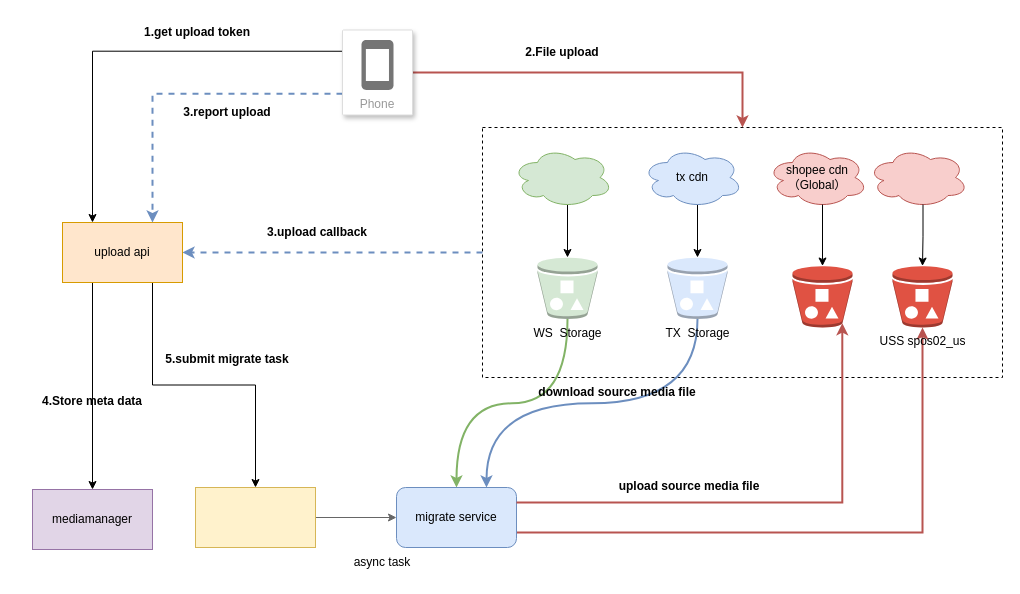
This 1020x594 diagram has some shape labels left out. The centre of each missing label's shape, as x and y in pixels:
"shopee cdn （Latam）" goes at (917,177).
"USS spos_02_sg" goes at (822,296).
"vodprocess" goes at (255,517).
"ws cdn" goes at (562,177).
